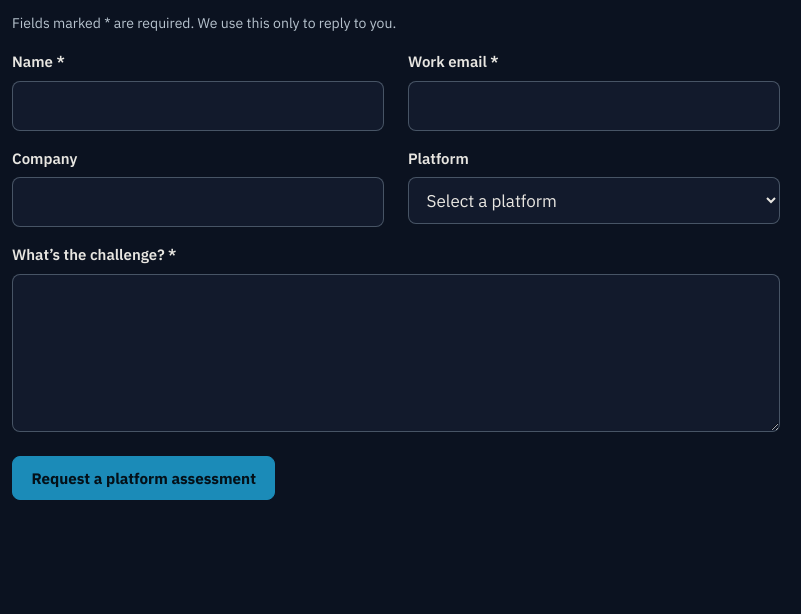
Contact form › opens a prefilled mailto to sales@ when no endpoint is configured
Type "Dana Ruiz" into the field labelled "Name *" at [198, 106], box [12, 81, 384, 131]
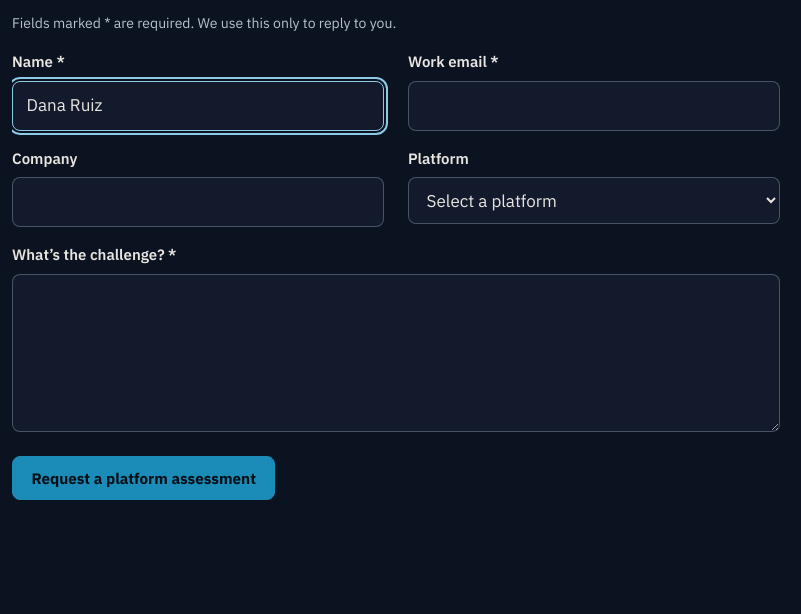
Type "dana@example.com" into the field labelled "Work email *" at [594, 106], box [408, 81, 780, 131]
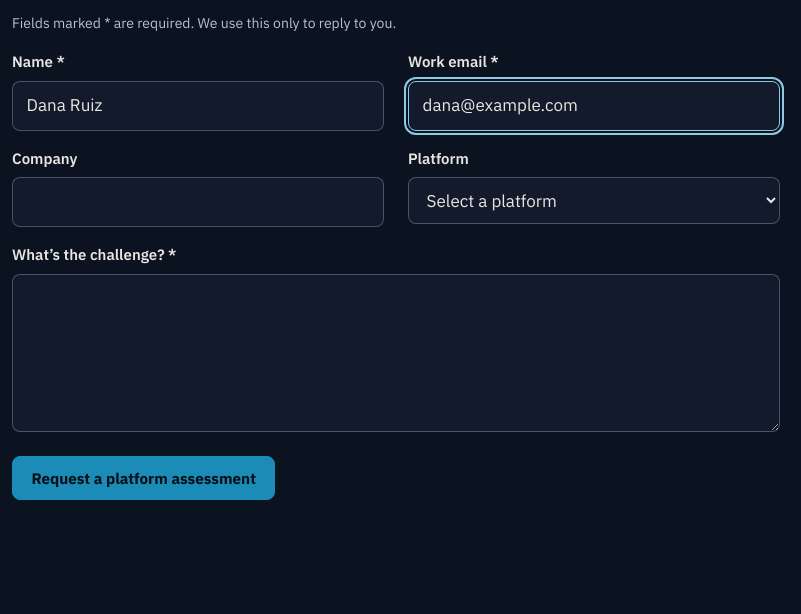
Type "Acme Health" into the field labelled "Company" at [198, 202], box [12, 177, 384, 227]
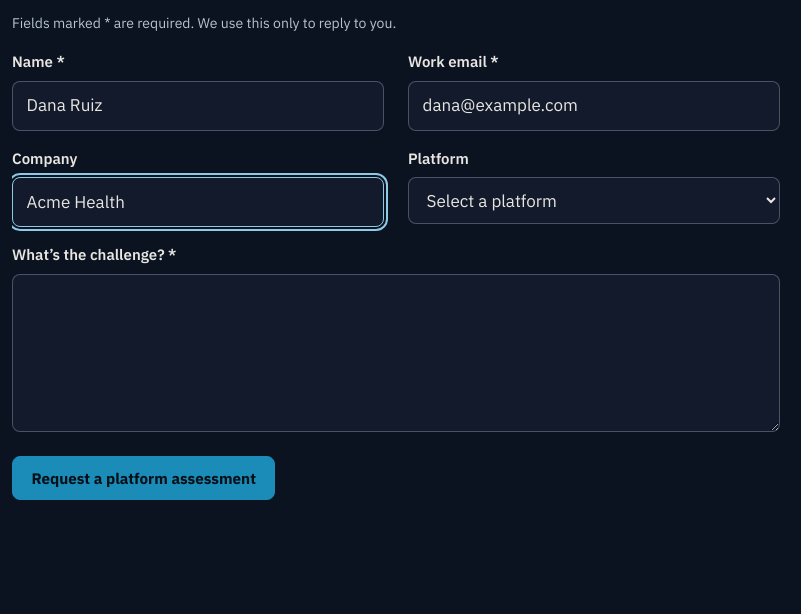
Select "Amazon Connect" in the dropdown labelled "Platform" at [594, 200], box [408, 177, 780, 224]
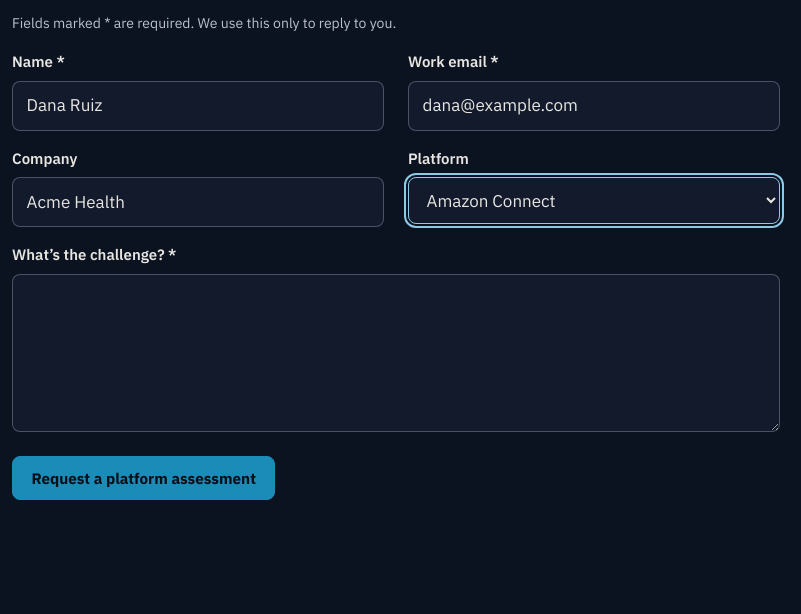
Type "Cutover in March & IVR rework" into the text box labelled "What’s the challenge? *" at [396, 353], box [12, 274, 780, 432]
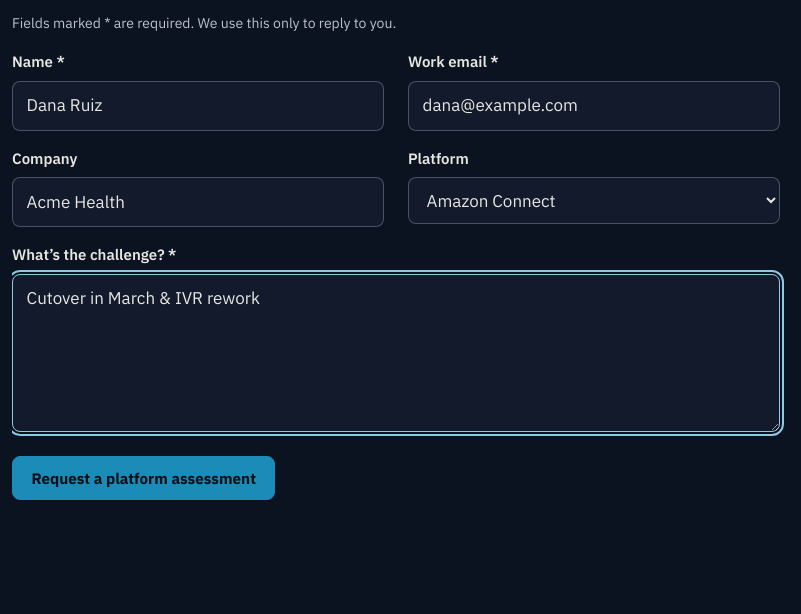
Click the button "Request a platform assessment" at [144, 478], box [12, 456, 275, 500]
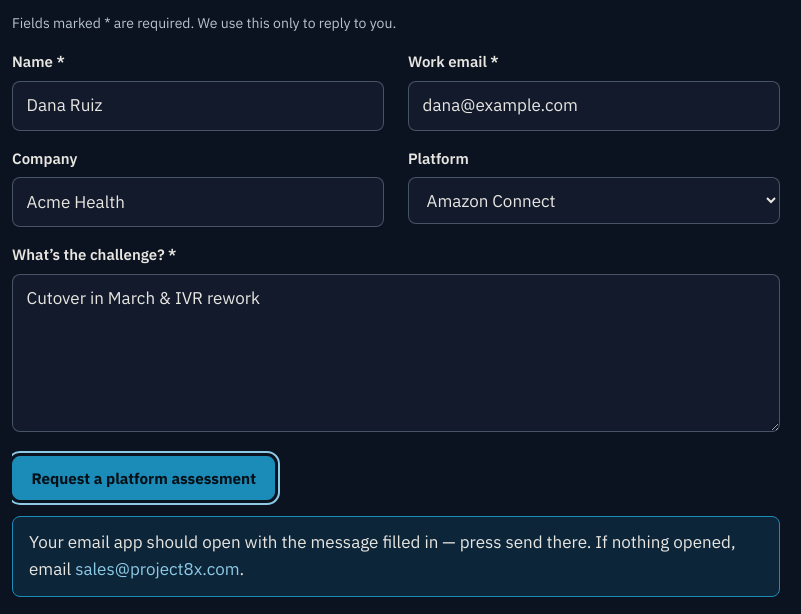
Now the message shows "Your email app should open", box [29, 531, 736, 580]
